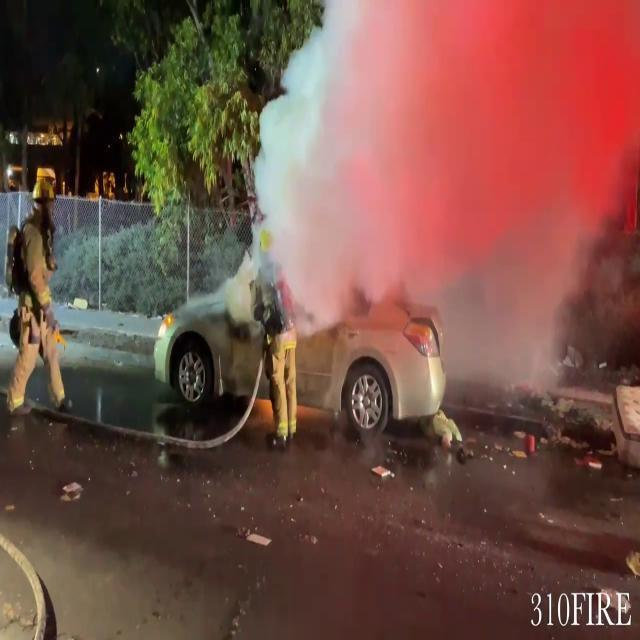Smoke: (237, 0, 640, 375)
